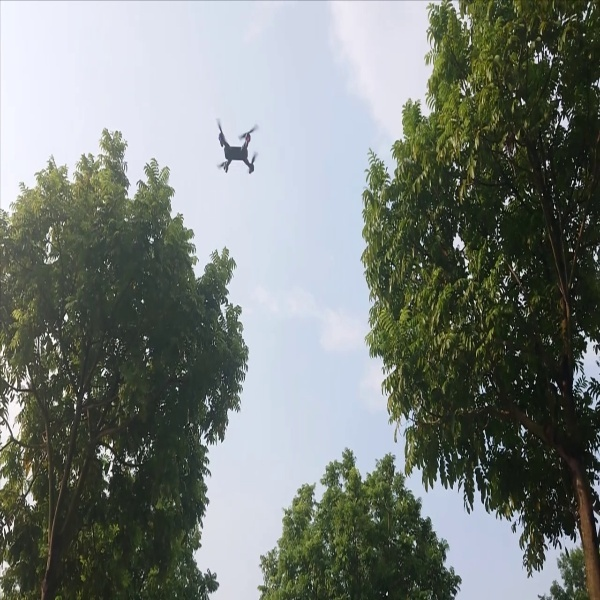drone: (214, 109, 265, 178)
